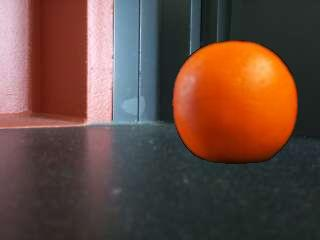Orange: (169, 37, 301, 167)
